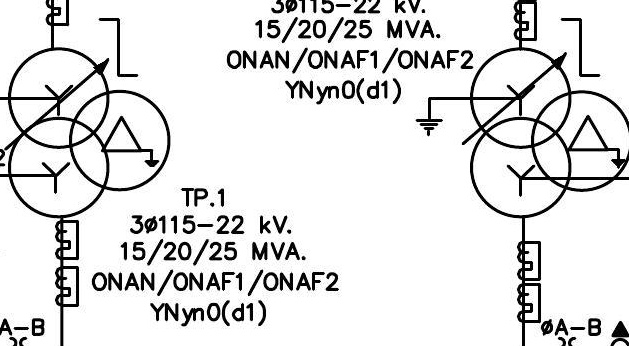11522_tx_ynyn0d1: (7, 46, 172, 220)
